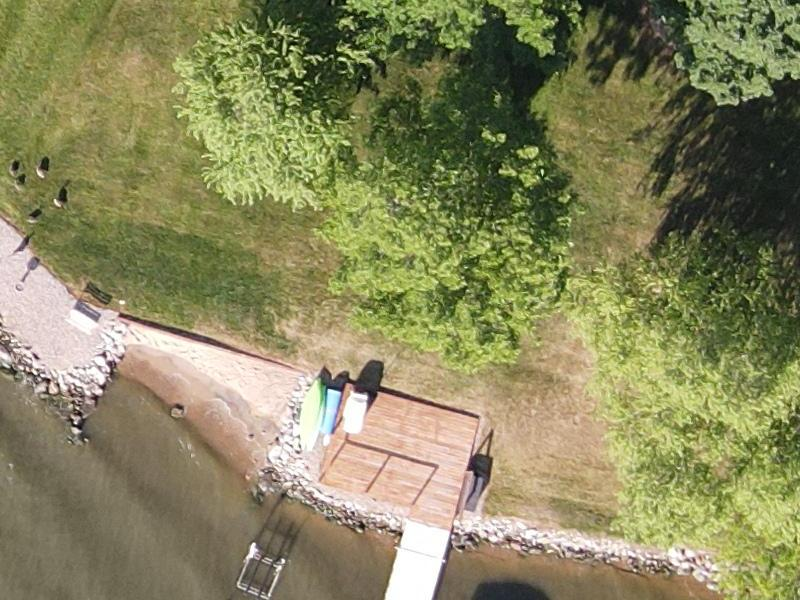boat: (289, 517, 479, 600)
